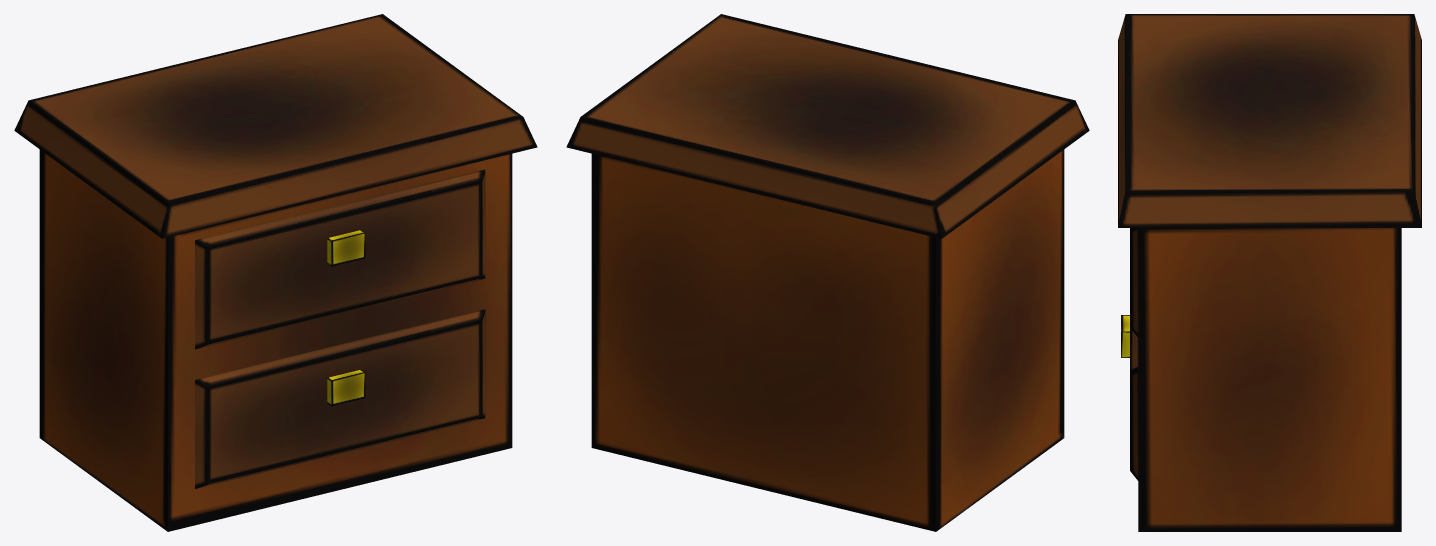
Rendered from Dresser.fbx.
3 renders of one model, left to right at view 1: azimuth 30°, elevation 25°; view 2: azimuth 150°, elevation 25°; view 3: azimuth 270°, elevation 25°, orthographic. The views are drawn at different scales.
Parts seen in each view (by area): view 1: pCube11; view 2: pCube11; view 3: pCube11.
Part boxes in pixels (bbox=[...]): pCube11: bbox=[14, 14, 537, 531]; pCube11: bbox=[566, 14, 1089, 531]; pCube11: bbox=[1118, 14, 1421, 531].
Size of the model in its own units: 2.5 by 2.12 by 1.7.
1 material, 1 textured.
